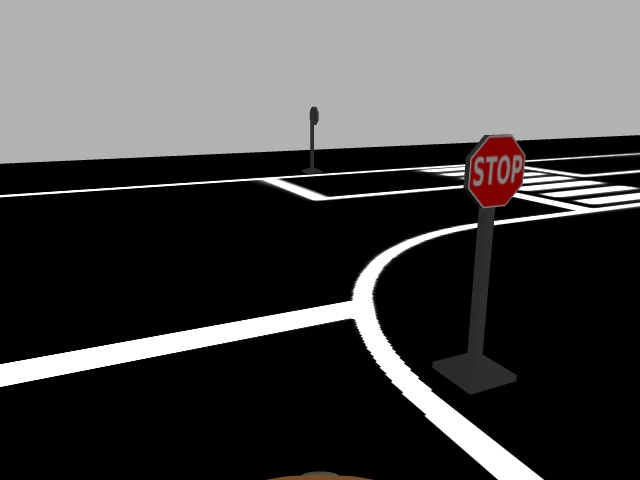stop: (461, 132, 531, 211)
